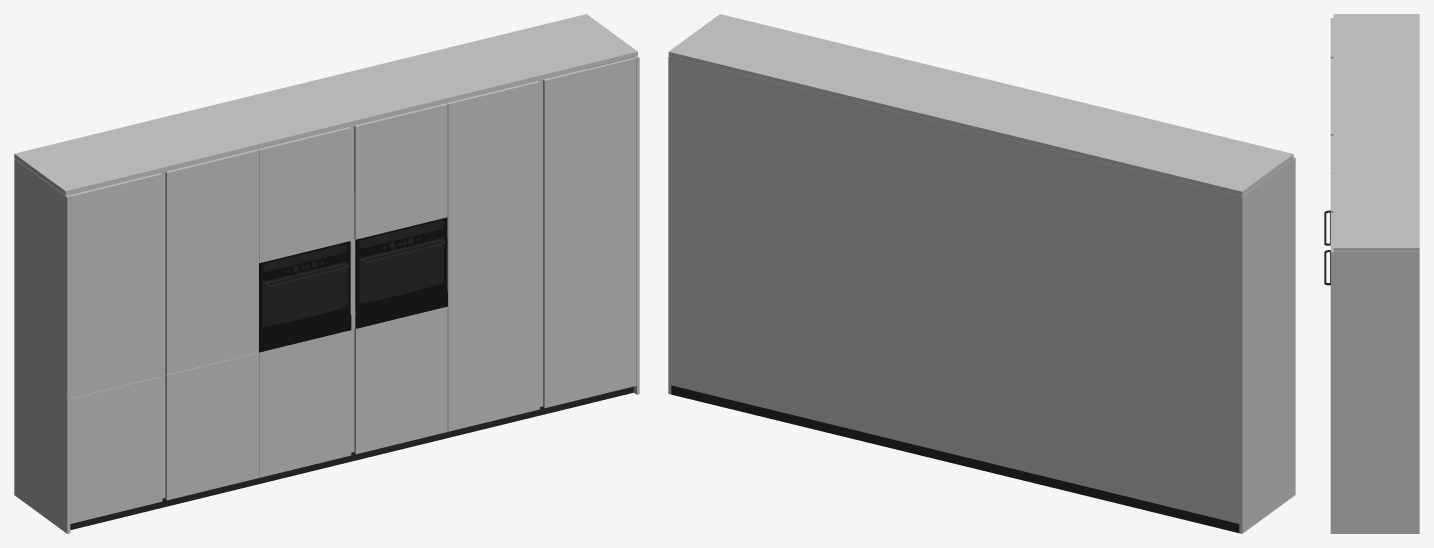
File: Cabinet001.FBX
3 renders of one model, left to right at view 1: azimuth 30°, elevation 25°; view 2: azimuth 150°, elevation 25°; view 3: azimuth 270°, elevation 25°, orthographic. The views are drawn at different scales.
Parts seen in each view (by area): view 1: Cabinet001; view 2: Cabinet001; view 3: Cabinet001.
Part boxes in pixels (x1=…): Cabinet001: x1=14, y1=14, x2=639, y2=533; Cabinet001: x1=668, y1=14, x2=1295, y2=533; Cabinet001: x1=1324, y1=14, x2=1419, y2=533.
Size of the model in its own units: 13.57 by 7.73 by 2.34.
